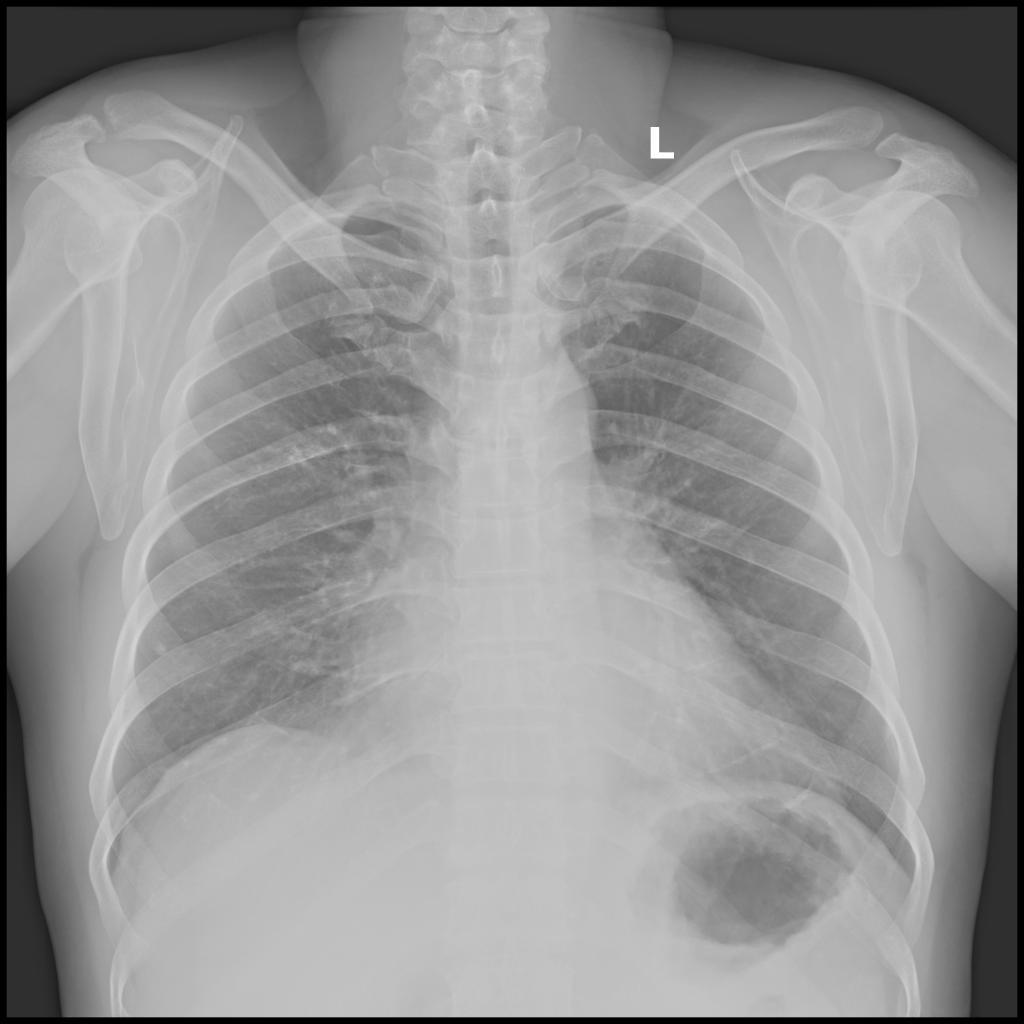Nodule: (152, 640, 171, 657)
